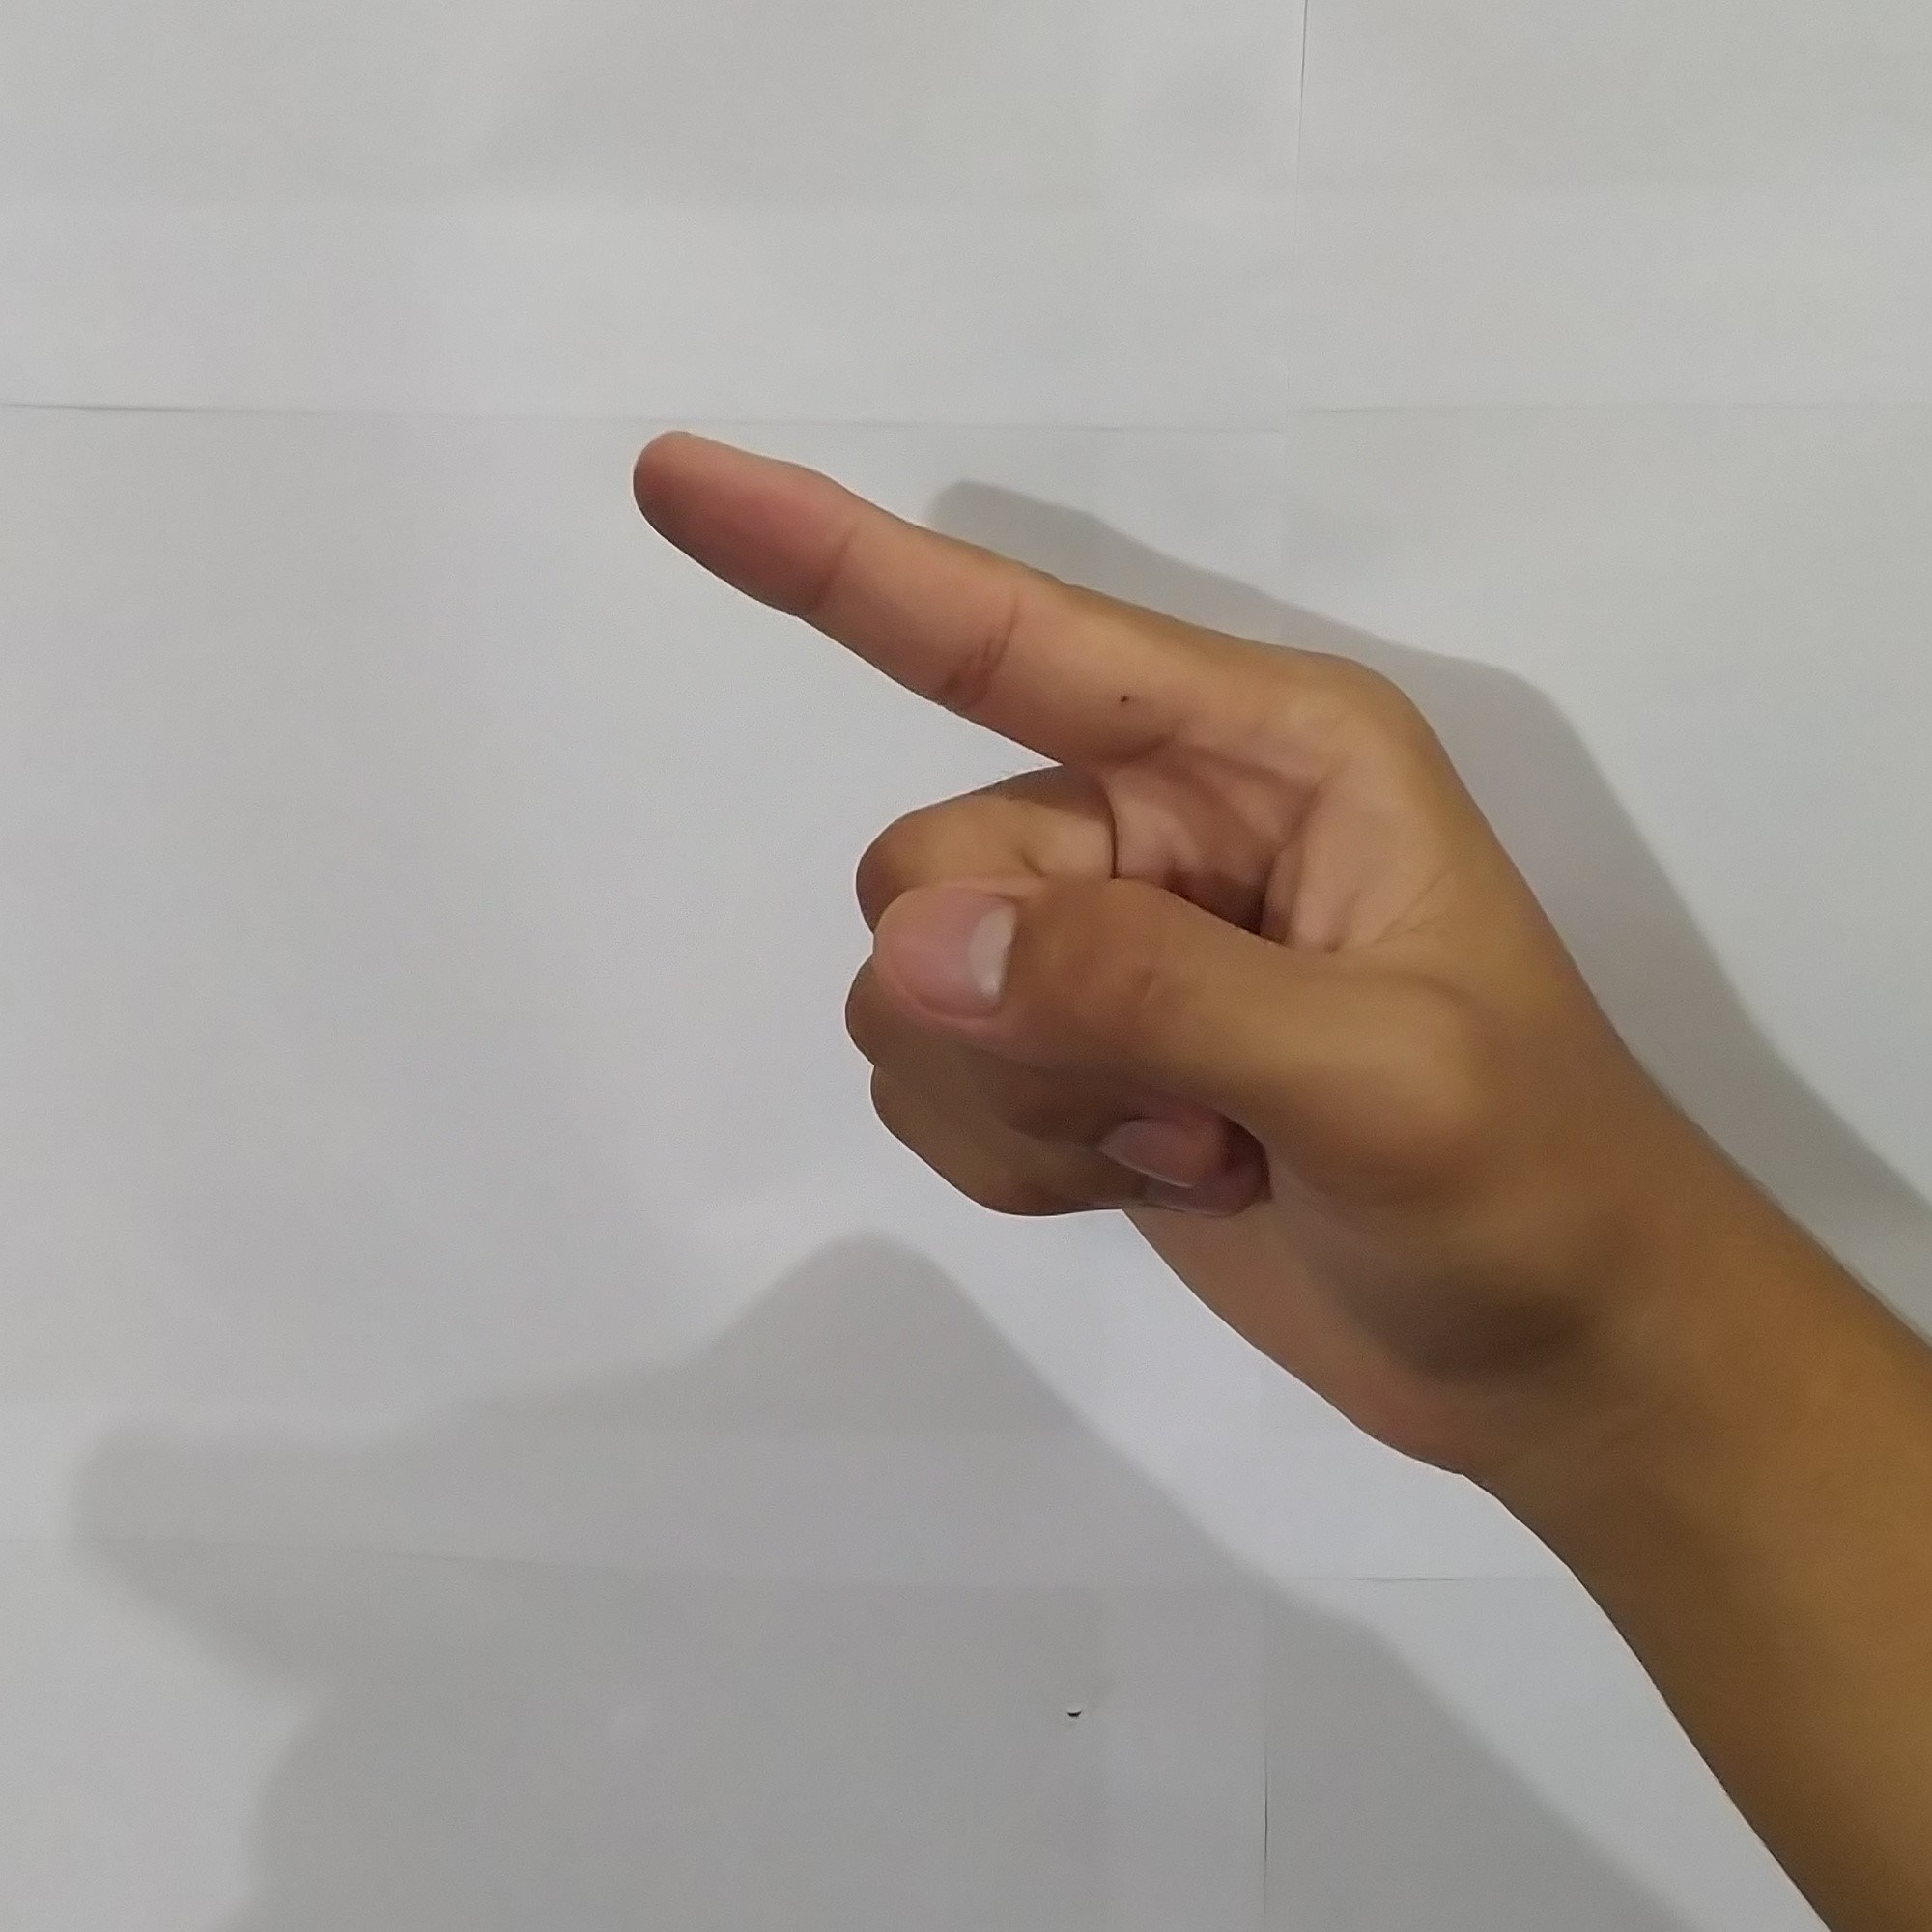Z: (598, 387, 1736, 1458)
